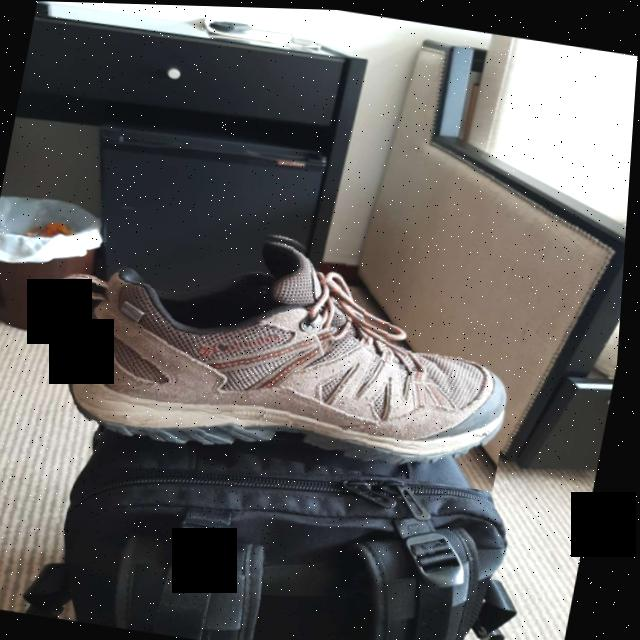shoe: (58, 201, 541, 489)
